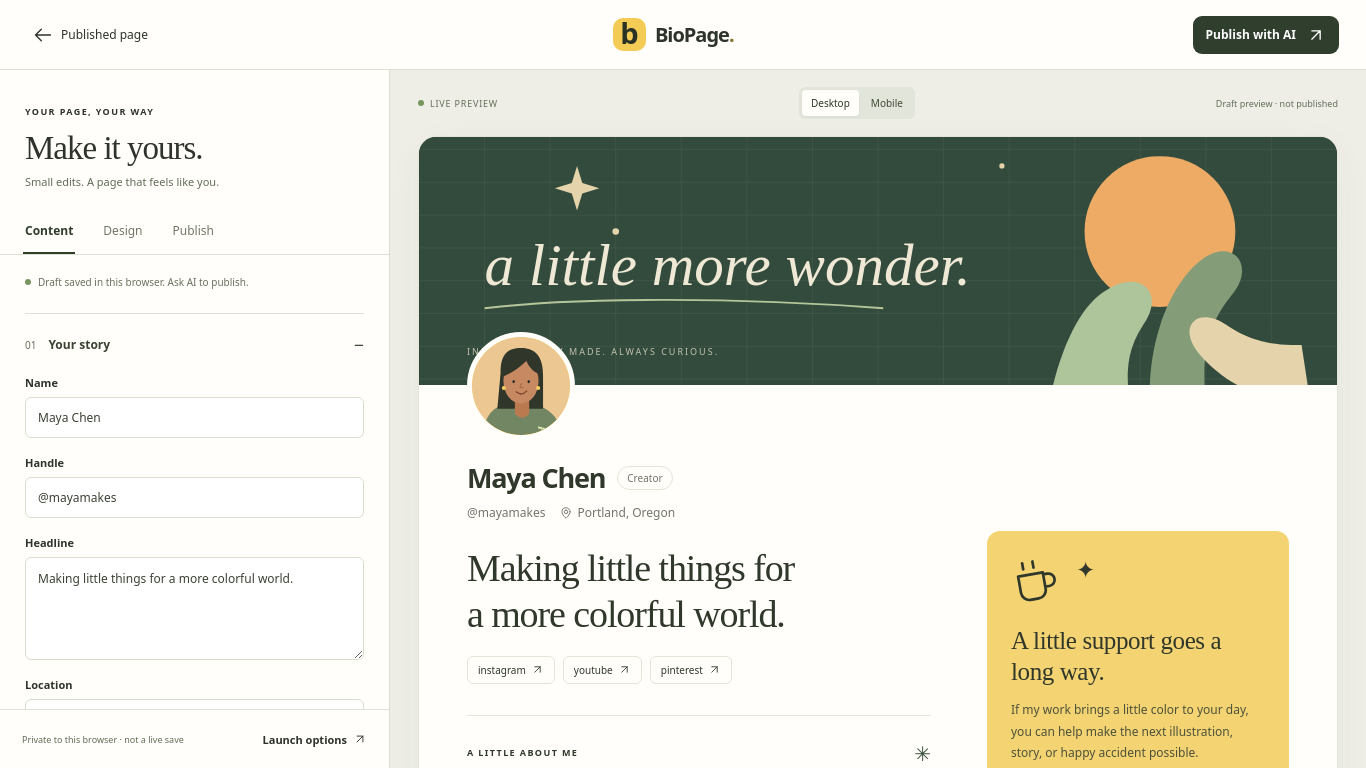
Test case: BioPage DOM interactions (not browser layout tests) › selects the prompt for manual copying when the clipboard is unavailable
Check: the heading "Maya Chen" is shown, box [467, 459, 605, 496]
Click the button "Publish".
click(193, 232)  # box [170, 209, 216, 254]
(page scrolled)
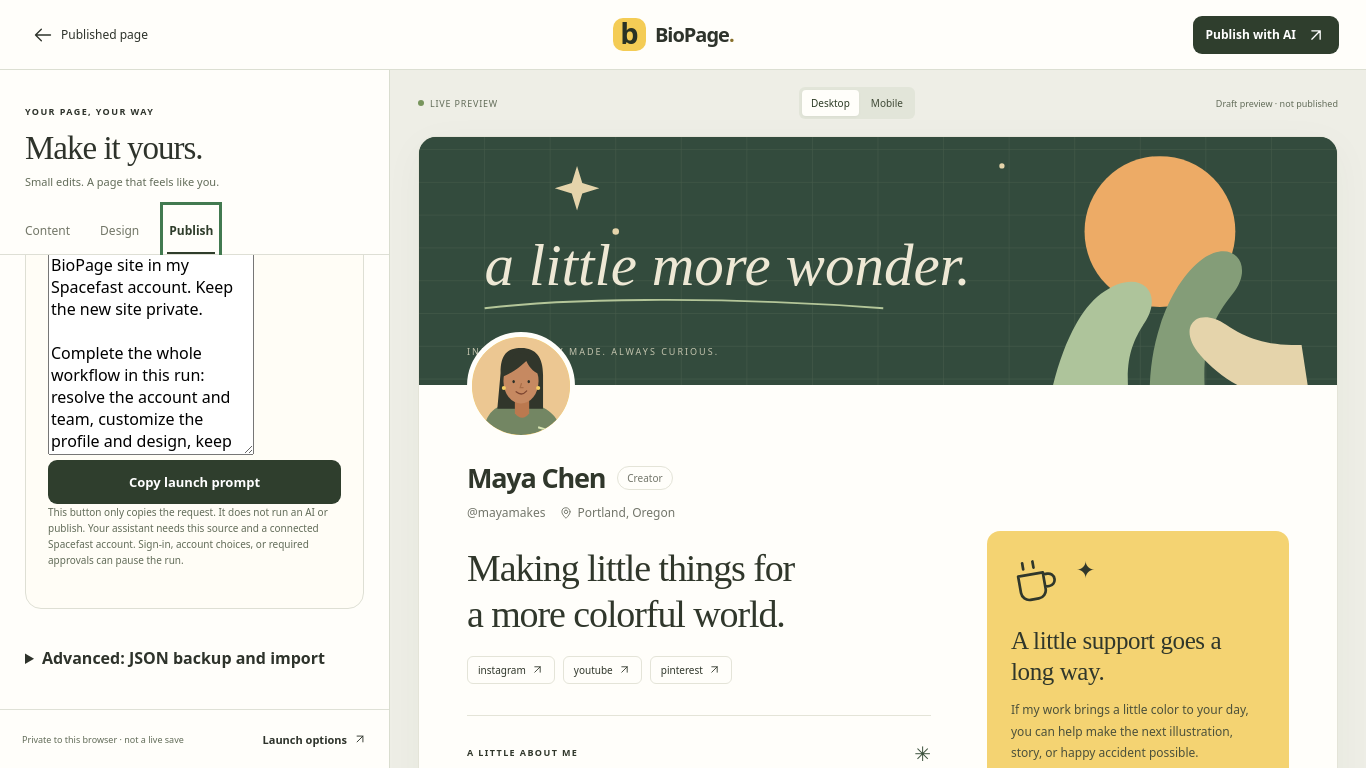
Click the button "Copy launch prompt".
click(194, 482)  # box [48, 460, 341, 504]
(page scrolled)
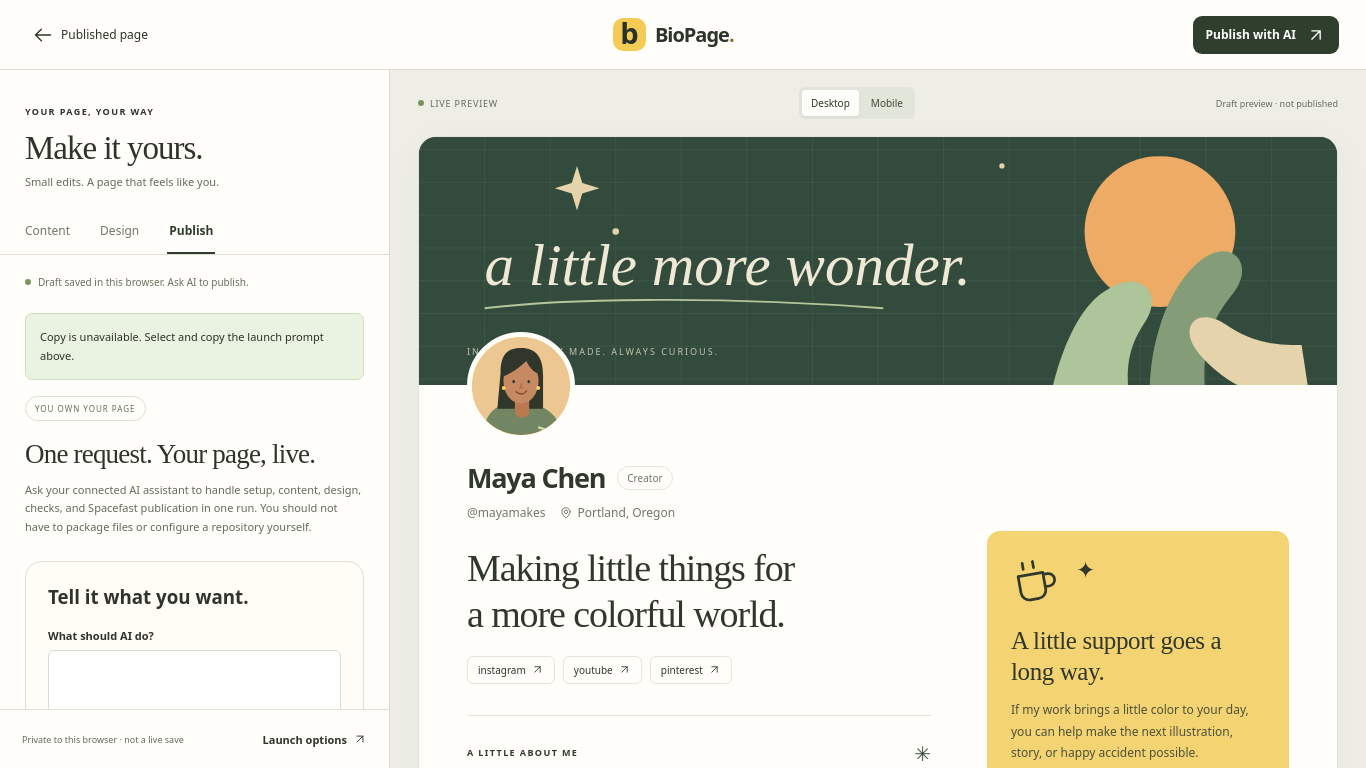
Check: the message shows "Copy is unavailable", box [40, 329, 324, 363]
